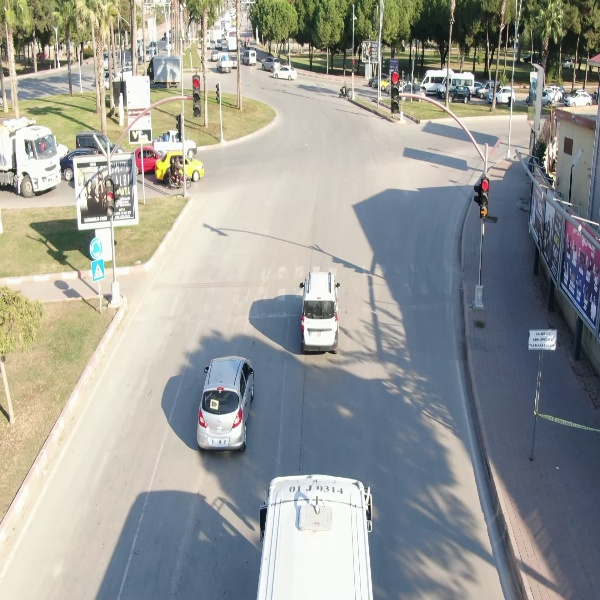car: (194, 353, 257, 456), (298, 270, 343, 356), (485, 84, 517, 105), (563, 89, 594, 109), (446, 82, 472, 104), (271, 64, 298, 80), (259, 56, 281, 73), (239, 49, 258, 67)
